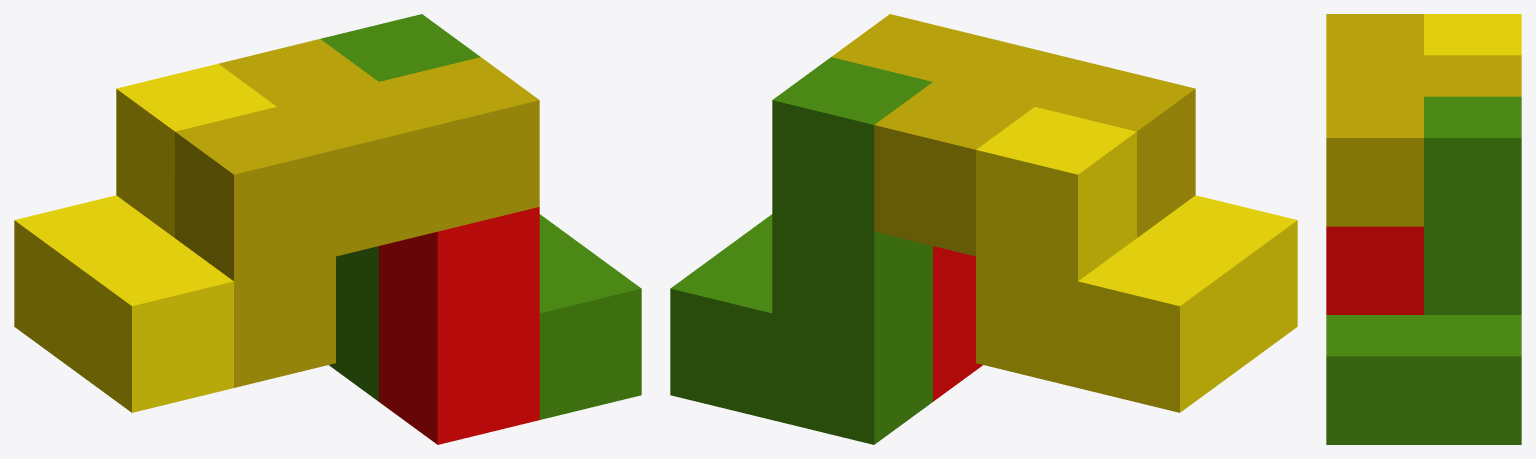
3 views of the same model, side by side, from view 1: azimuth 30°, elevation 25°; view 2: azimuth 150°, elevation 25°; view 3: azimuth 270°, elevation 25° (orthographic). The views are drawn at different scales.
Parts seen in each view (by area): view 1: mergedBlocks(Clone); view 2: mergedBlocks(Clone); view 3: mergedBlocks(Clone).
Part boxes in pixels (x1=…): mergedBlocks(Clone): x1=14, y1=14, x2=641, y2=444; mergedBlocks(Clone): x1=670, y1=14, x2=1297, y2=444; mergedBlocks(Clone): x1=1326, y1=14, x2=1521, y2=444.
Bounding box in the file's own units: 5 × 3 × 2.
4 materials, 4 textured.
